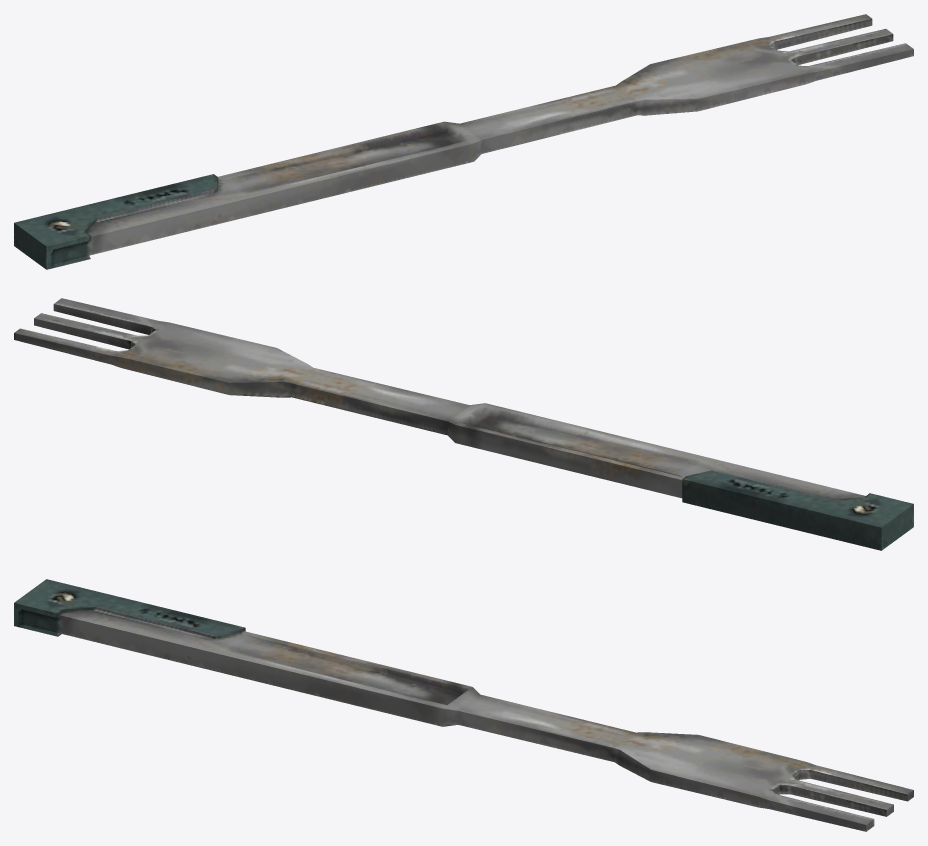
The model's file is cutlery_fork.DAE.
The picture shows the model from 3 angles, top to bottom: view 1: azimuth 30°, elevation 25°; view 2: azimuth 150°, elevation 25°; view 3: azimuth 330°, elevation 25°; orthographic projection.
Visible parts, largest first — view 1: cutlery_fork; view 2: cutlery_fork; view 3: cutlery_fork.
Boxes of the visible parts, x1,y1,x2,y2 form: cutlery_fork: (14,14,913,269); cutlery_fork: (14,298,913,550); cutlery_fork: (14,579,913,831).
Size of the model in its own units: 0.1943 by 0.00502 by 0.0187.
